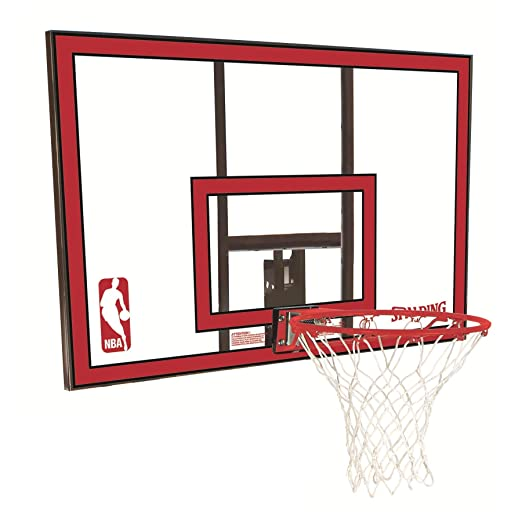basket: (254, 290, 500, 514)
